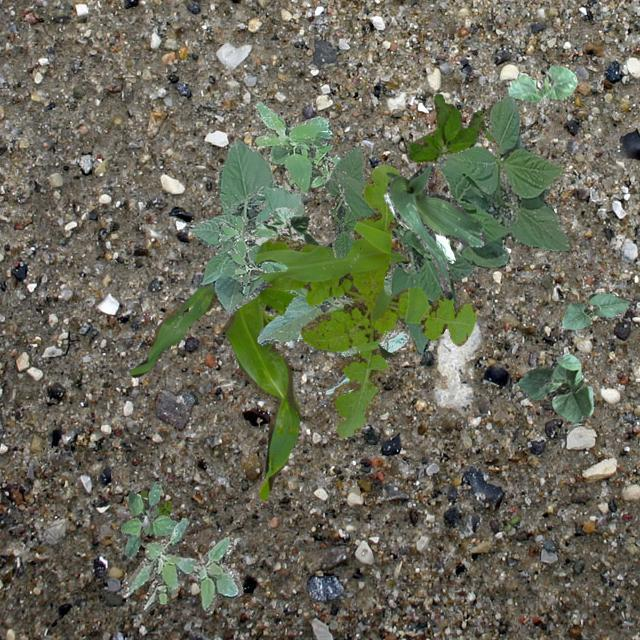crop: (128, 246, 408, 500), (337, 90, 572, 356), (188, 137, 408, 396), (384, 162, 486, 300), (516, 354, 592, 424), (383, 192, 453, 262), (324, 146, 362, 260), (560, 290, 630, 330), (248, 207, 318, 246), (506, 64, 576, 102)
weed: (253, 164, 478, 438), (120, 516, 242, 614), (252, 100, 340, 192), (408, 94, 492, 162), (216, 214, 286, 294), (120, 481, 177, 556), (138, 488, 170, 516)
